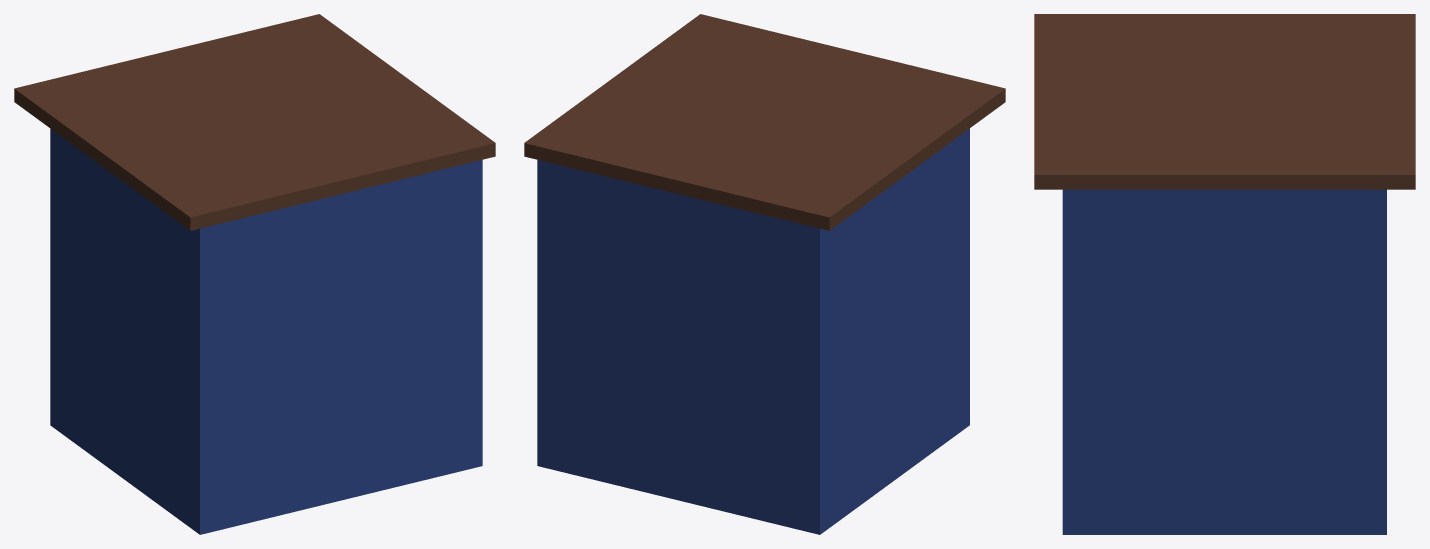
The model's file is Connect_1.fbx.
3 renders of one model, left to right at view 1: azimuth 30°, elevation 25°; view 2: azimuth 150°, elevation 25°; view 3: azimuth 270°, elevation 25°, orthographic. The views are drawn at different scales.
Parts seen in each view (by area): view 1: Cube_5, Cube_4; view 2: Cube_5, Cube_4; view 3: Cube_5, Cube_4.
Part boxes in pixels (left/top/right/bottom): Cube_5: left=50, top=128, right=482, bottom=534; Cube_4: left=14, top=14, right=495, bottom=230; Cube_5: left=537, top=128, right=969, bottom=534; Cube_4: left=524, top=14, right=1005, bottom=230; Cube_5: left=1062, top=189, right=1386, bottom=534; Cube_4: left=1034, top=14, right=1415, bottom=189.
Bounding box in the file's own units: 200 × 208 × 200.
